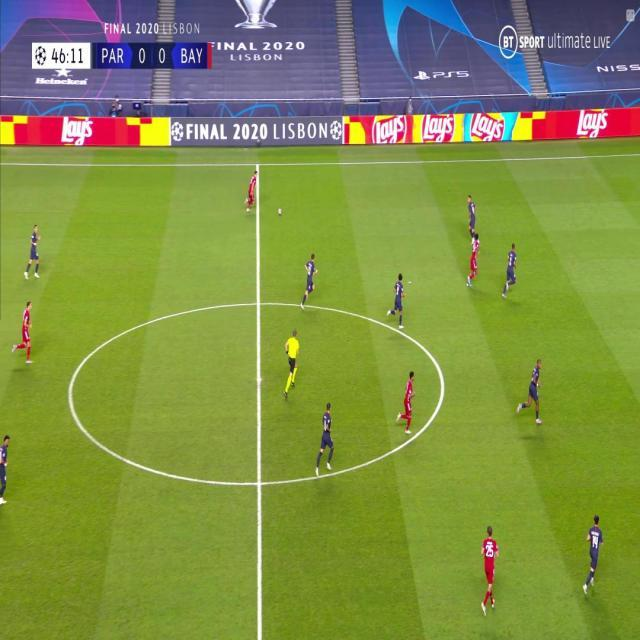ball: (278, 205, 282, 215)
player: (479, 525, 501, 615), (515, 359, 544, 427), (582, 515, 605, 596), (314, 401, 337, 478), (12, 300, 35, 365), (396, 370, 418, 433), (387, 272, 409, 330), (300, 251, 319, 311), (24, 223, 43, 281), (501, 242, 519, 299), (465, 233, 482, 287), (0, 431, 11, 504), (242, 169, 259, 214), (465, 194, 479, 242)
referee: (282, 330, 301, 398)
